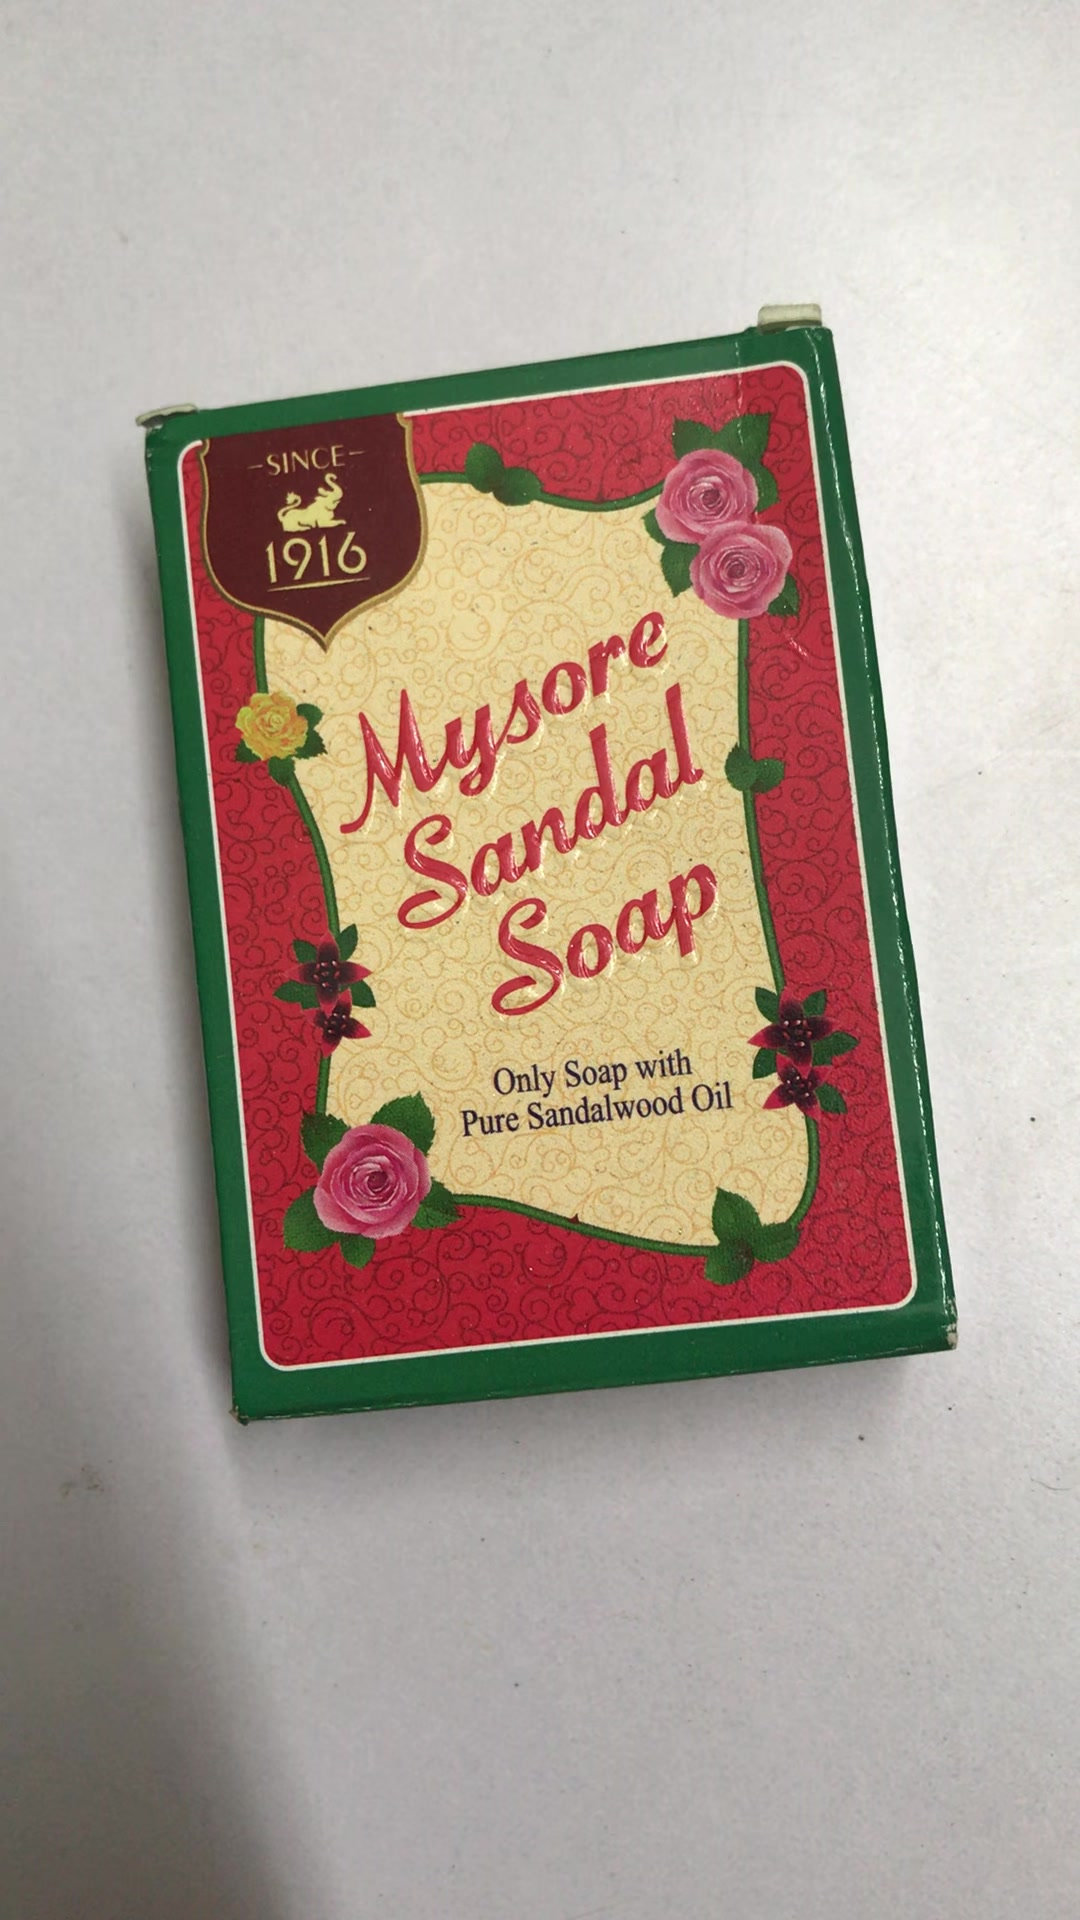mysore sandal soap: (142, 320, 968, 1425)
